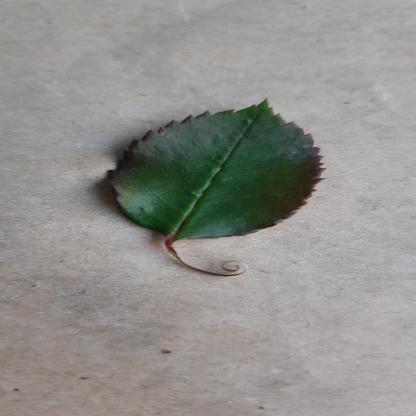powdery-mildew: (89, 98, 349, 242)
